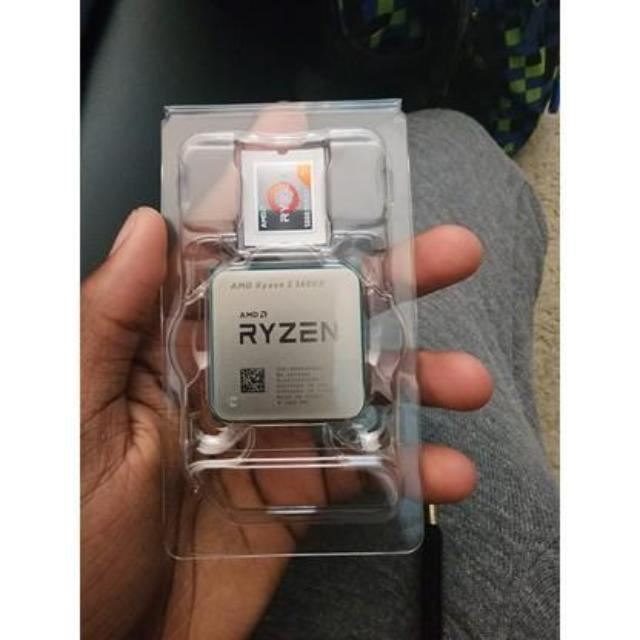CPU: (208, 274, 370, 423)
